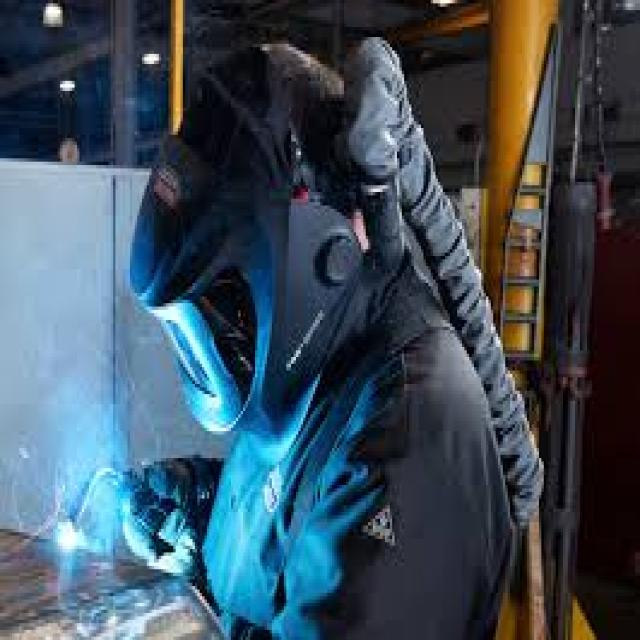welding: (59, 519, 79, 552)
